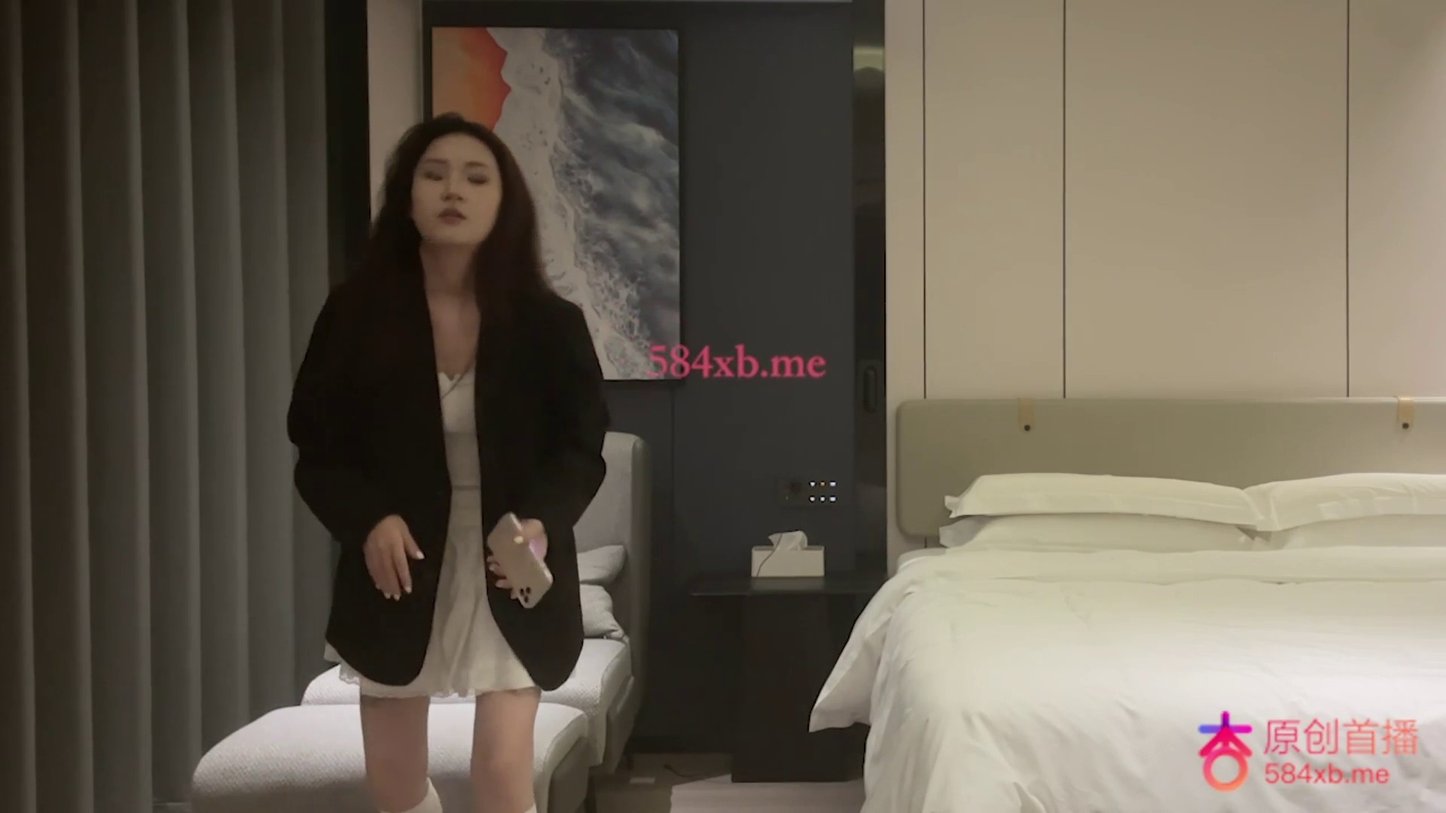stand: (285, 113, 607, 813)
